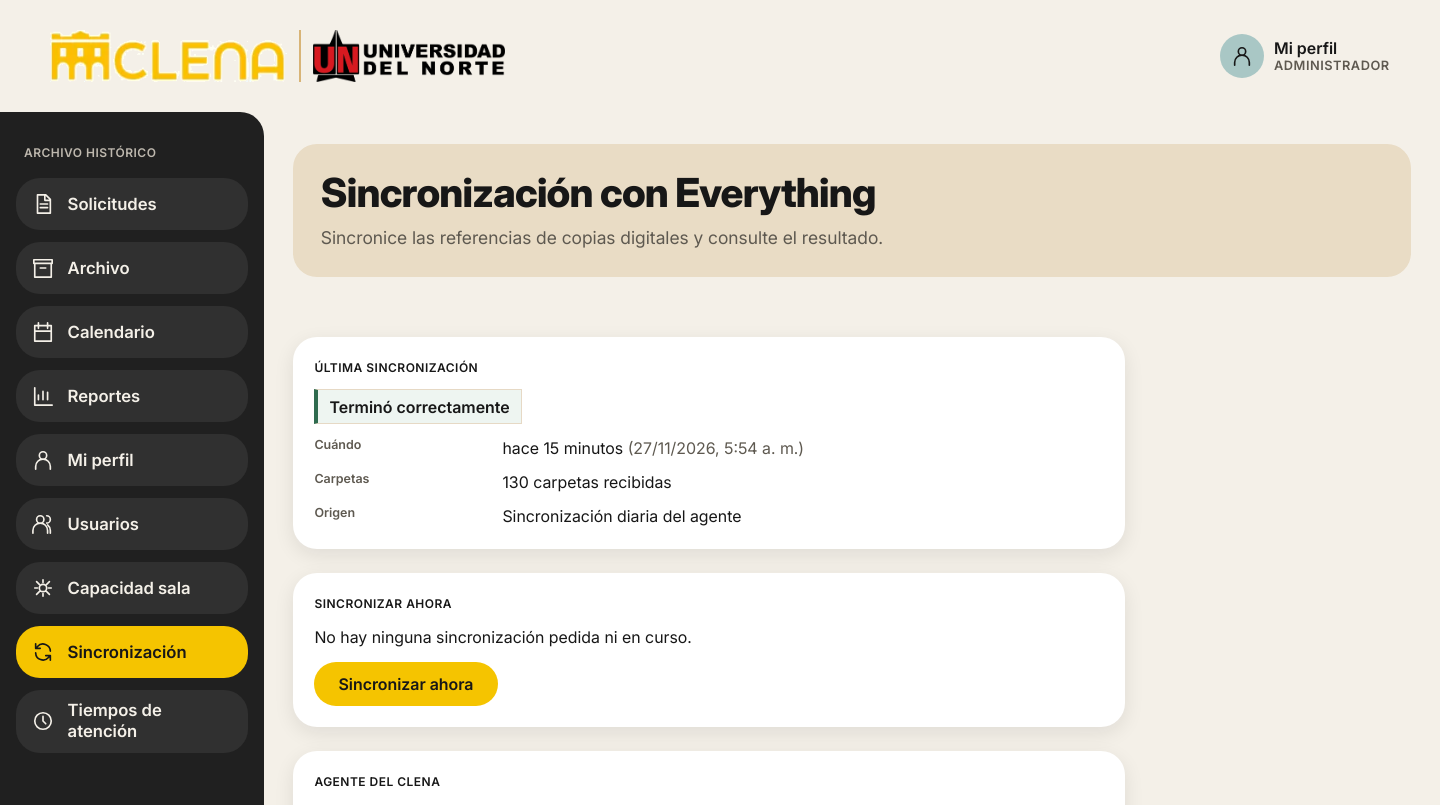
Test case: EverythingSyncPage (HU-138) › given I press «Sincronizar ahora», when I confirm, a run is asked for and the screen shows «pedida, esperando al agente»
Click the button "Sincronizar ahora": (406, 684) [314, 662, 498, 706]
(page scrolled)
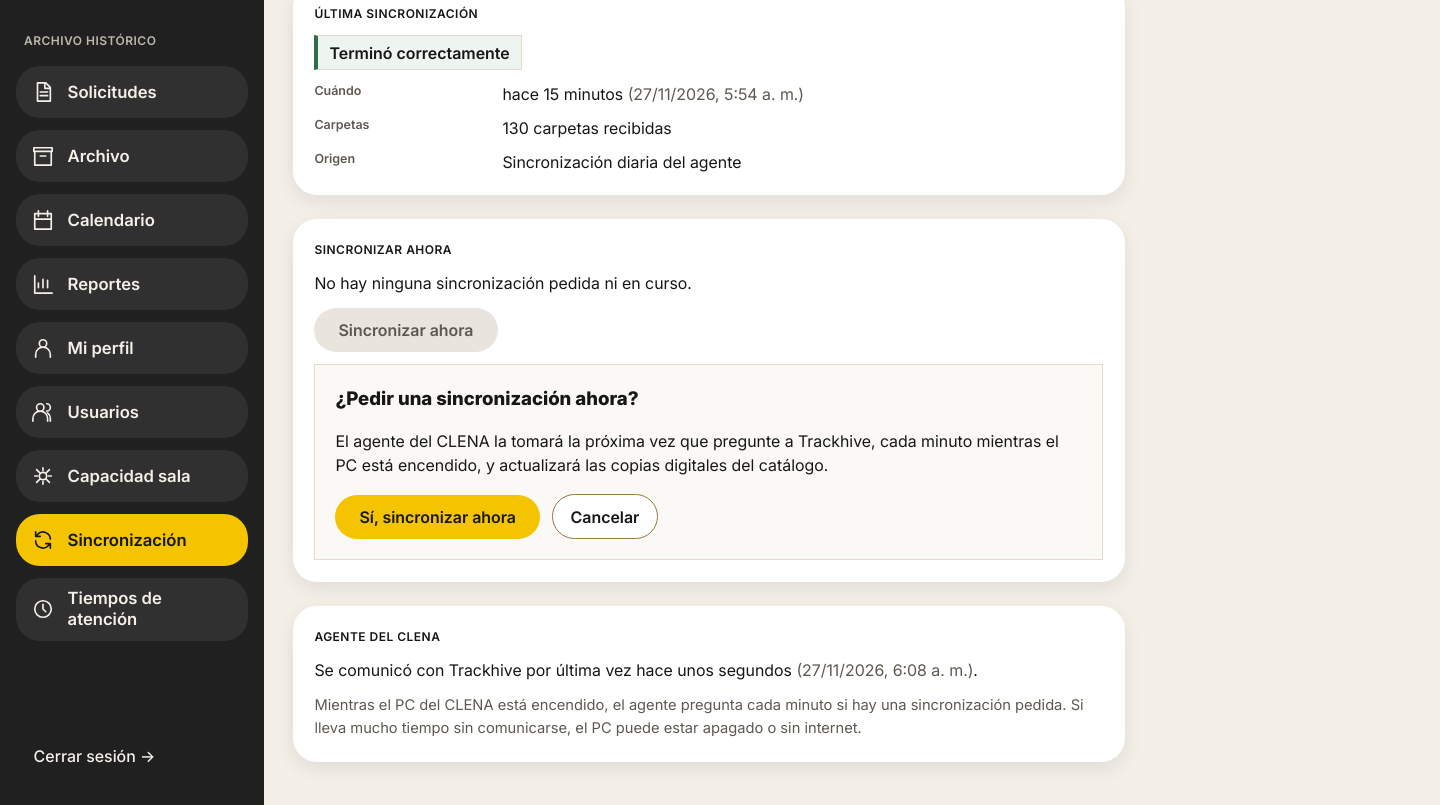
Click the button "Sí, sincronizar ahora": (438, 517) [335, 495, 540, 539]
(page scrolled)
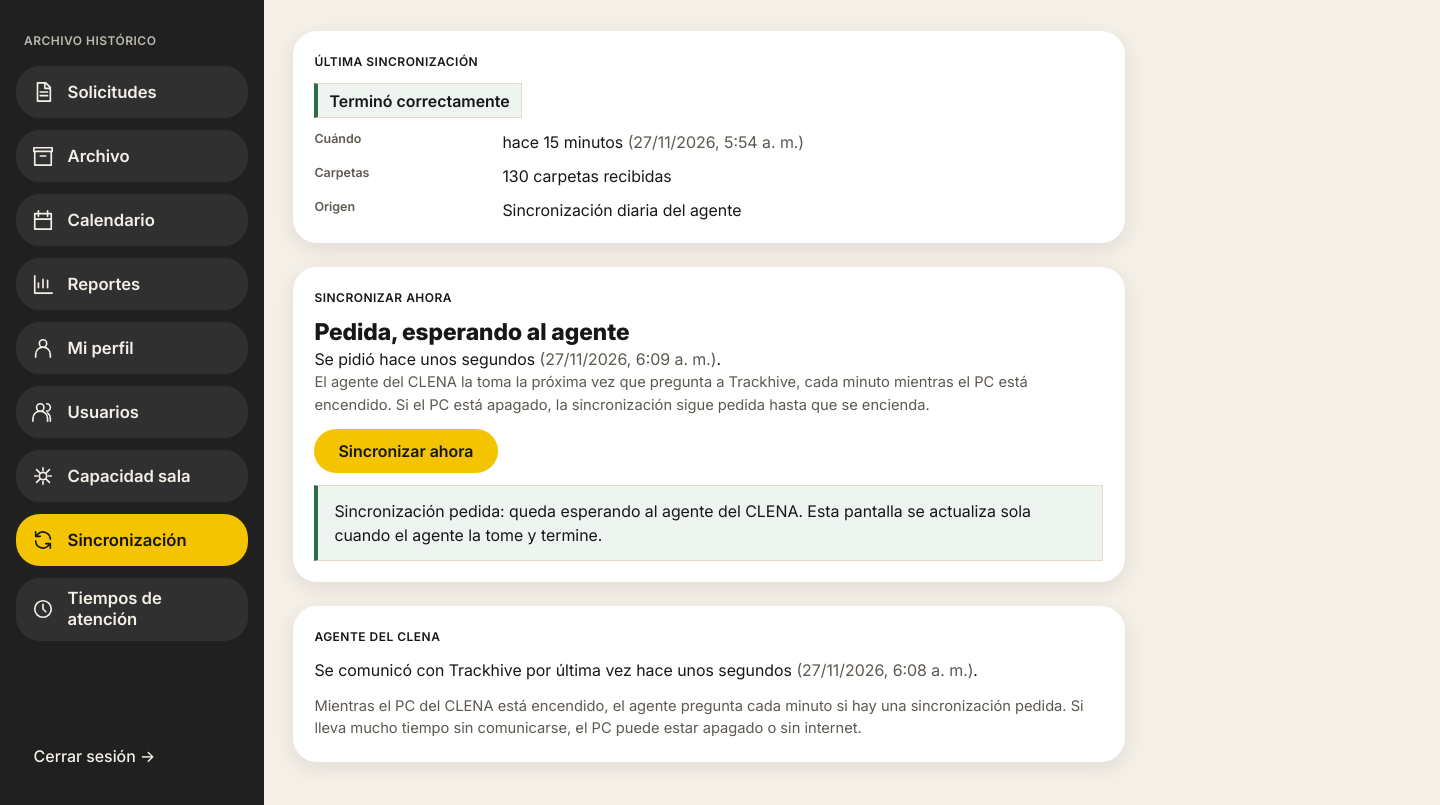
expect the text "Pedida, esperando al agente" is shown: met, box [314, 318, 630, 346]
expect the message shows "Sincronización pedida: queda esperando al agente del CLENA.": met, box [334, 501, 1031, 545]
